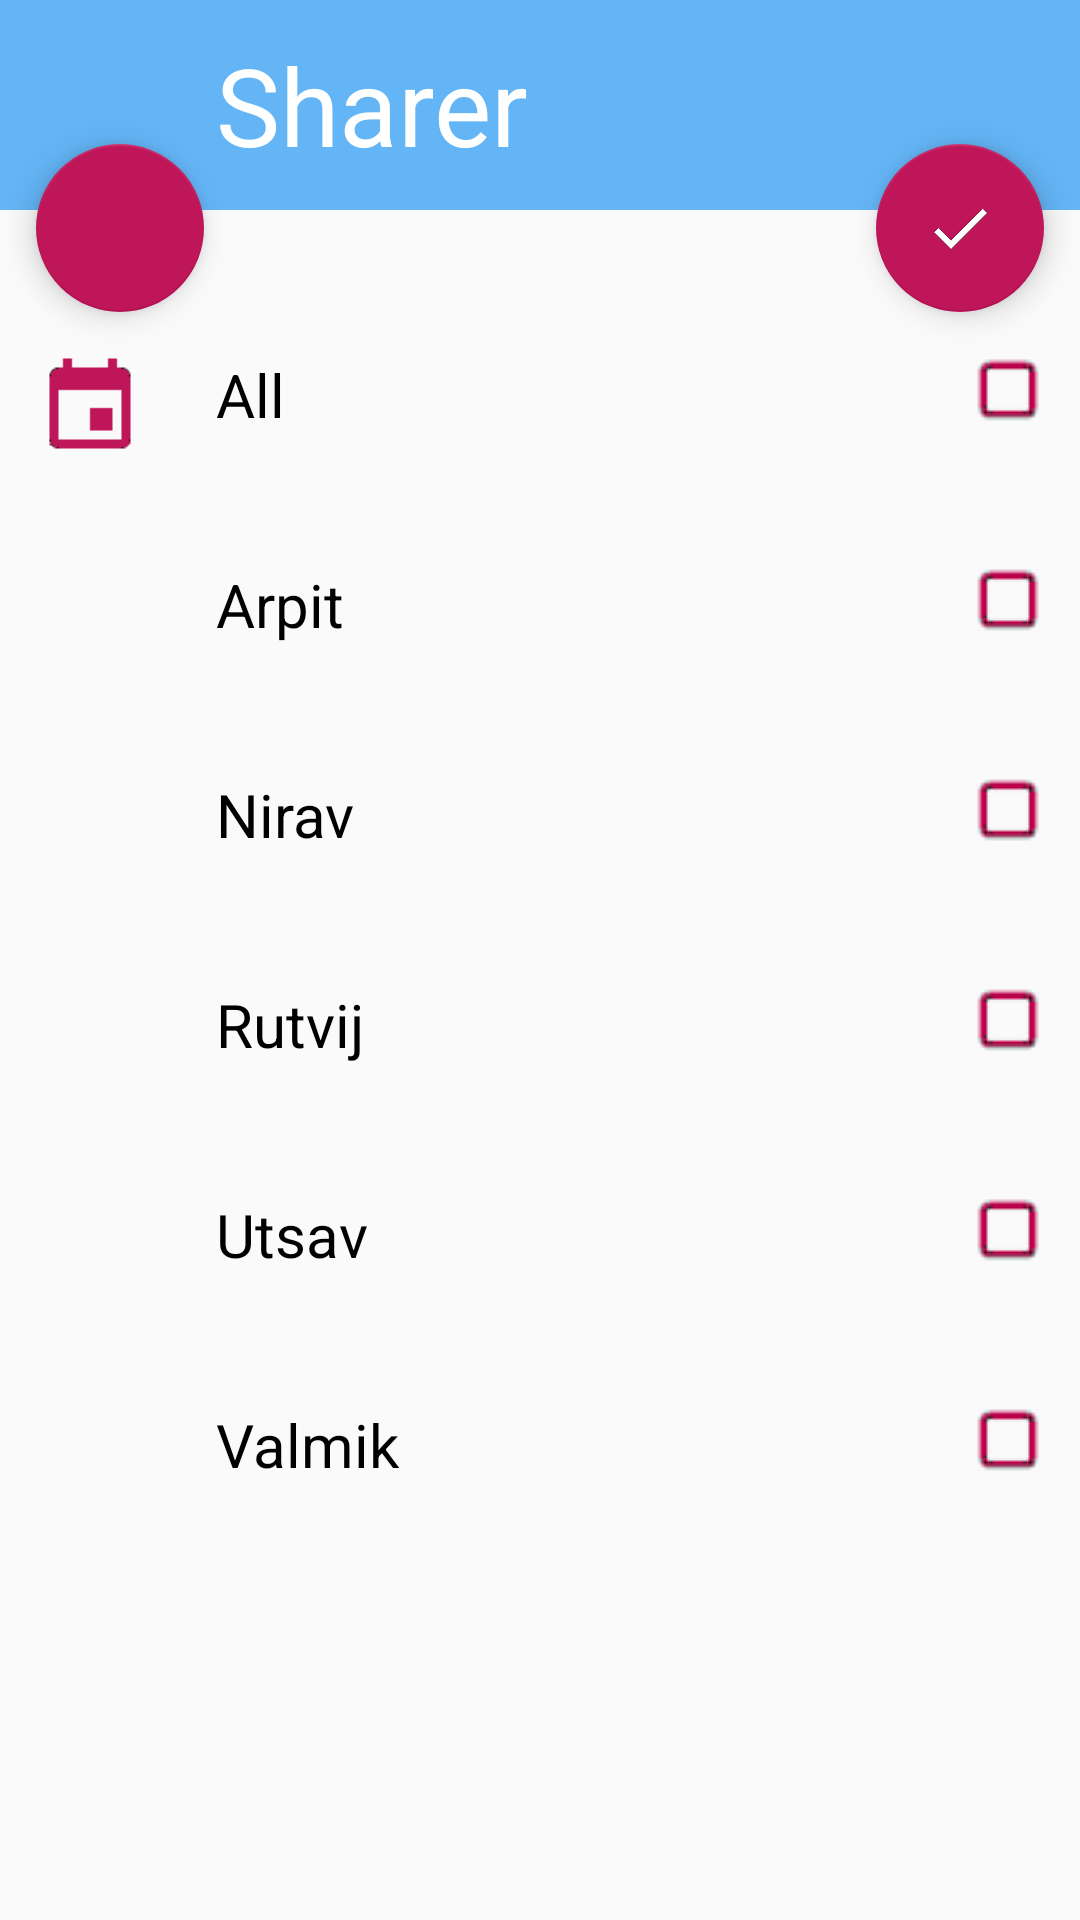

Icons on this 1080px x 1920px Android screen, each with its box as (left=x1, top=y1, right=x2, bottom=y2):
date: (left=49, top=358, right=131, bottom=449)
